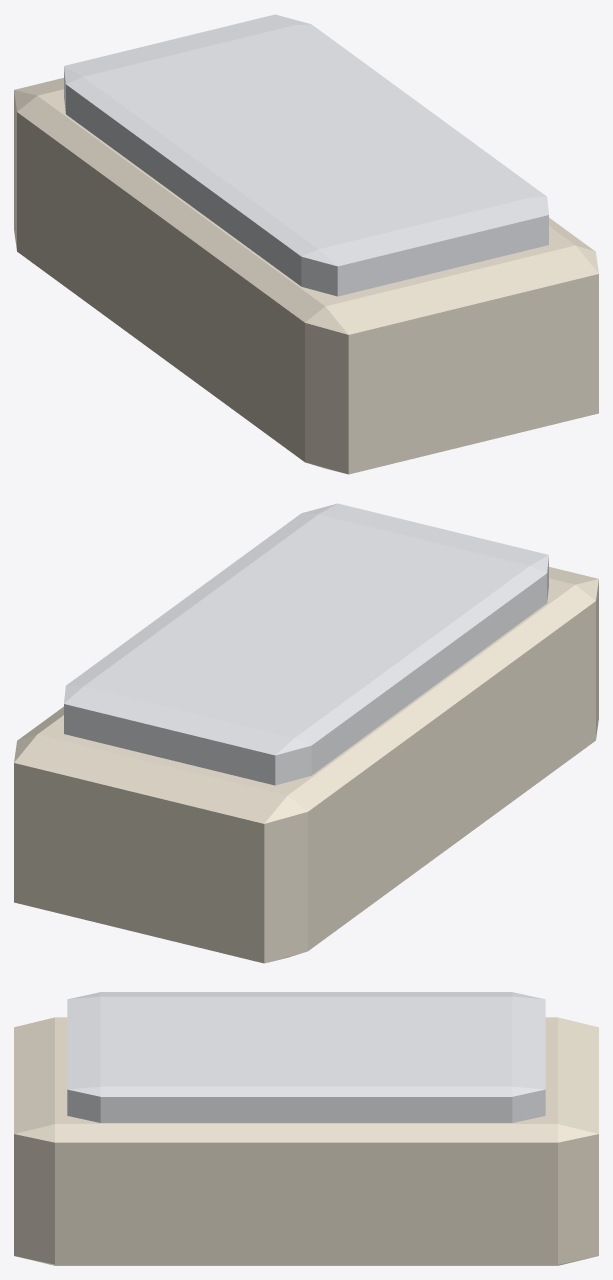
The model's file is b17_trail_sandal.glb.
The picture shows the model from 3 angles, top to bottom: view 1: azimuth 30°, elevation 25°; view 2: azimuth 150°, elevation 25°; view 3: azimuth 270°, elevation 25°; orthographic projection. The views are drawn at different scales.
Parts seen in each view (by area): view 1: b17_trail_sandal; view 2: b17_trail_sandal; view 3: b17_trail_sandal.
Part boxes in pixels (x1,y1,x2,y2): b17_trail_sandal: (14, 14, 598, 474); b17_trail_sandal: (14, 503, 598, 963); b17_trail_sandal: (14, 992, 598, 1265).
Size of the model in its own units: 0.137 by 0.088 by 0.273.
